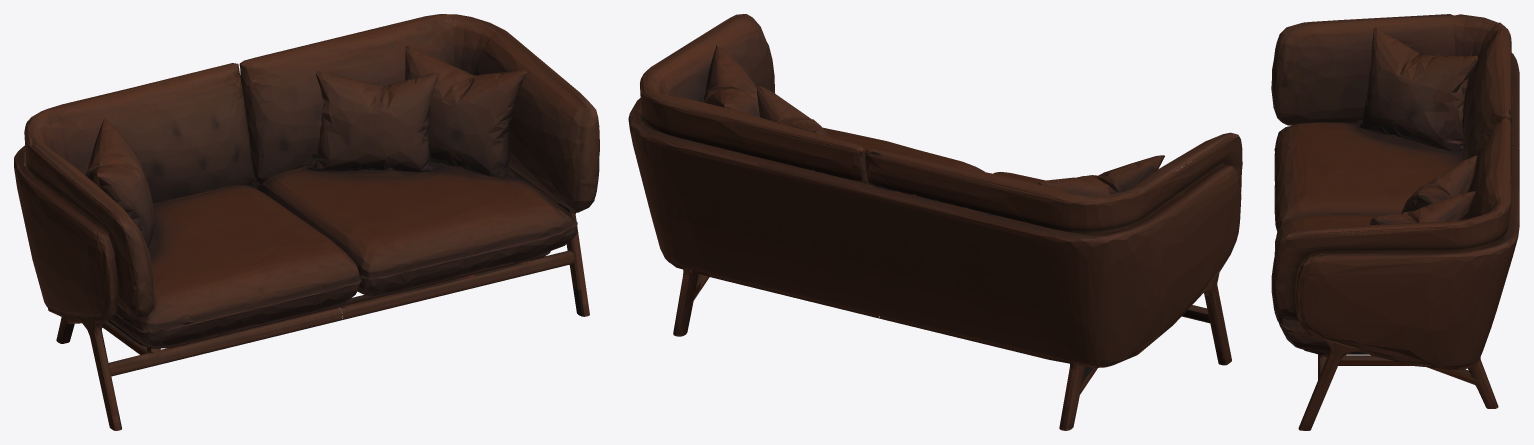
Rendered from edited_mesh.glb.
3 renders of one model, left to right at view 1: azimuth 30°, elevation 25°; view 2: azimuth 150°, elevation 25°; view 3: azimuth 270°, elevation 25°, orthographic. The views are drawn at different scales.
Parts seen in each view (by area): view 1: solid_001_wire; view 2: solid_001_wire; view 3: solid_001_wire.
Boxes of the visible parts, x1,y1,x2,y2 form: solid_001_wire: (14, 14, 599, 430); solid_001_wire: (628, 14, 1242, 430); solid_001_wire: (1271, 14, 1519, 430).
Size of the model in its own units: 2 by 0.8758 by 0.9391.
1 material, 1 textured.
